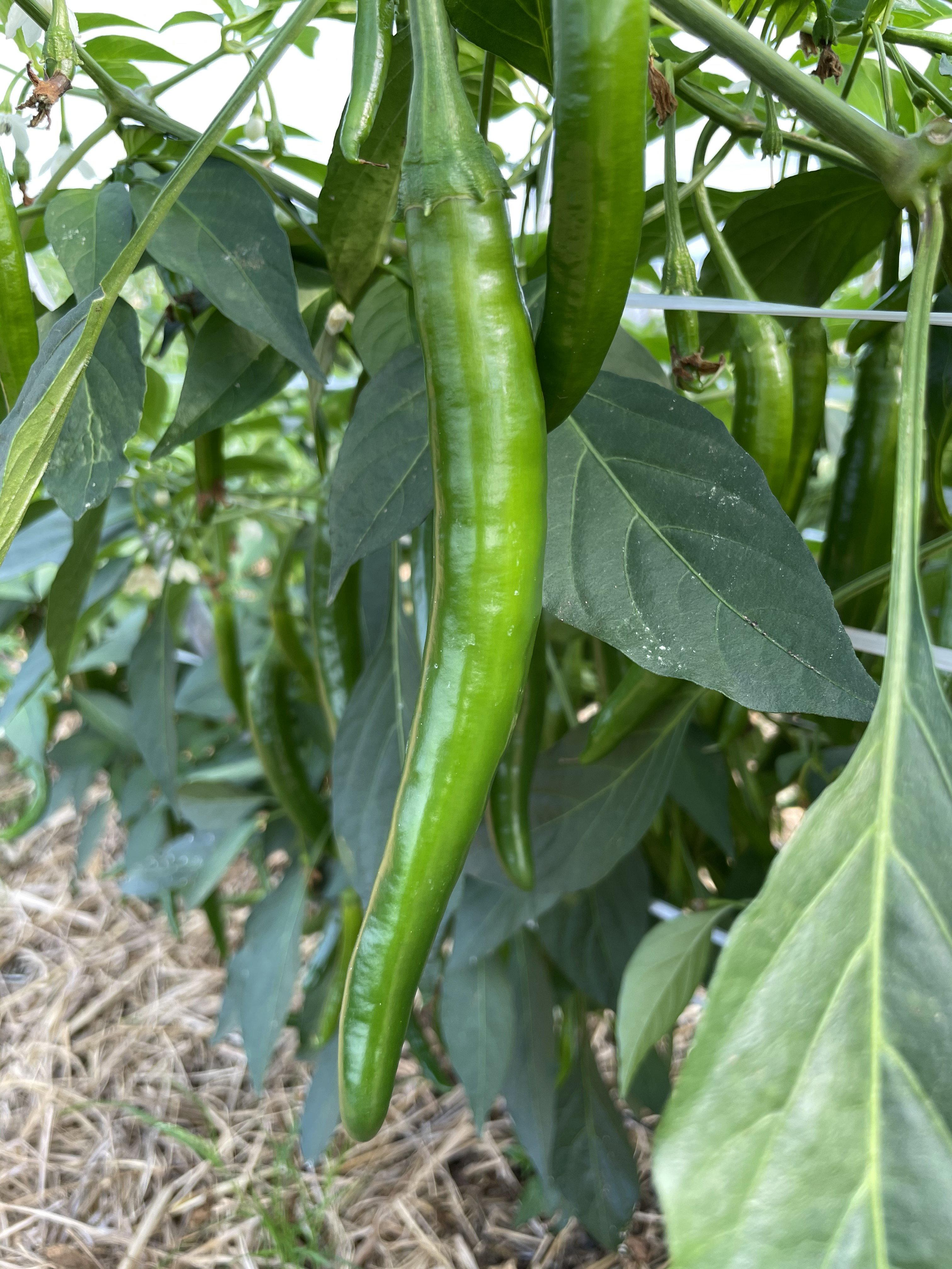Buah Cabai Sehat: (333, 90, 552, 1144)
Daun Cabai Sehat: (655, 577, 952, 1269), (548, 369, 885, 732)
